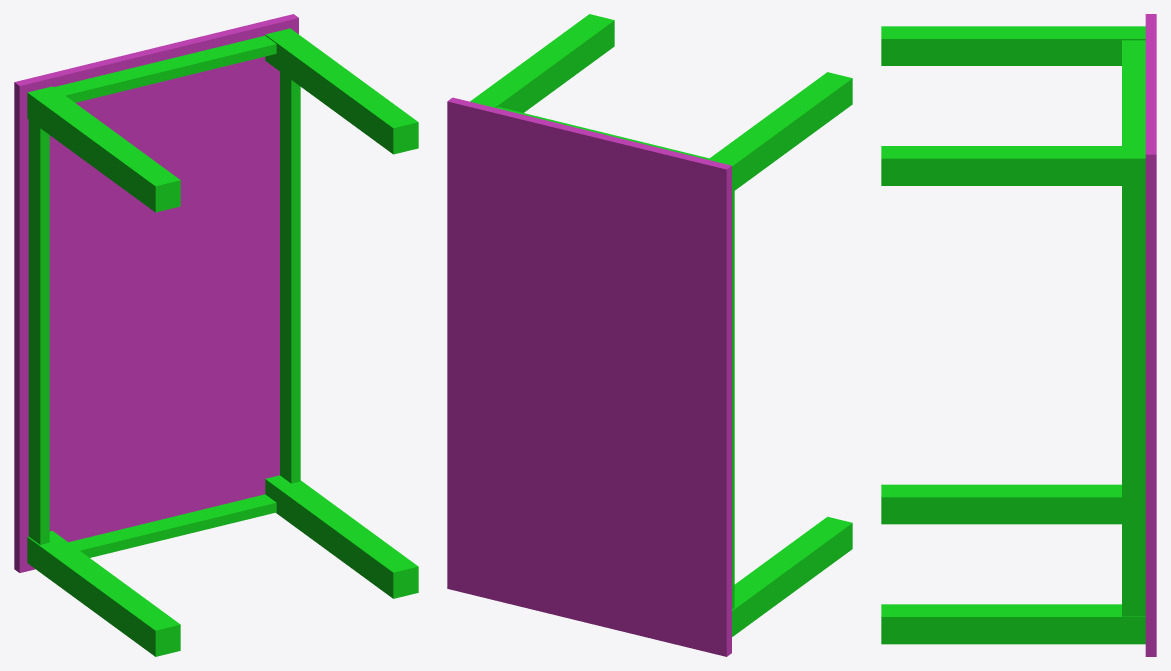
Rendered from kitchen_table_2.FBX.
3 renders of one model, left to right at view 1: azimuth 30°, elevation 25°; view 2: azimuth 150°, elevation 25°; view 3: azimuth 270°, elevation 25°, orthographic. The views are drawn at different scales.
Parts seen in each view (by area): view 1: cover.001; view 2: cover.001; view 3: cover.001.
Boxes of the visible parts, bbox=[...] form: cover.001: bbox=[14, 14, 418, 656]; cover.001: bbox=[447, 14, 852, 656]; cover.001: bbox=[881, 14, 1156, 656].
Bounding box in the file's own units: 92.33 × 154 × 76.49.
